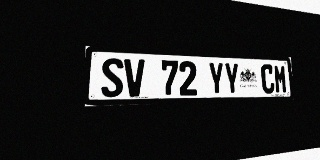2: (179, 61, 197, 96)
7: (160, 60, 179, 96)
C: (261, 64, 275, 94)
M: (274, 64, 287, 93)
S: (101, 58, 123, 97)
V: (124, 59, 145, 97)
Y: (208, 62, 225, 95), (224, 63, 240, 95)
